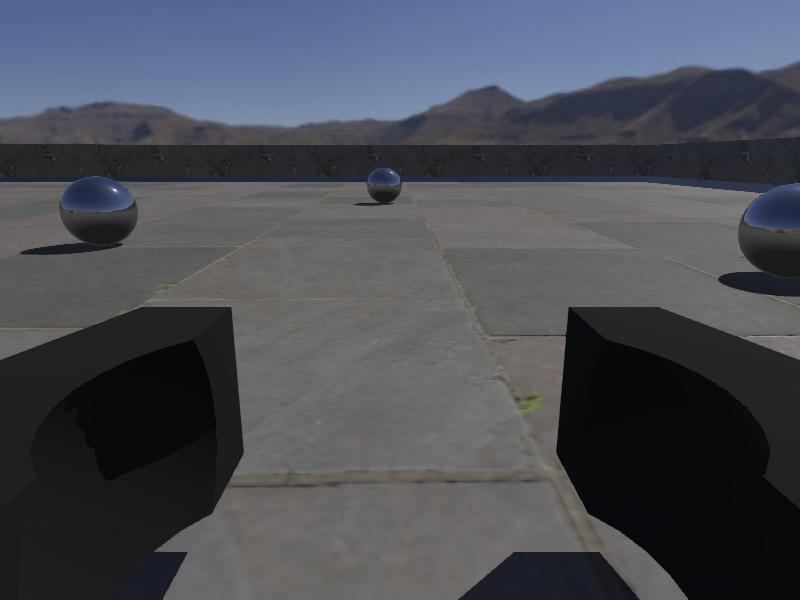steel ball: (58, 175, 140, 246), (366, 166, 403, 204)
